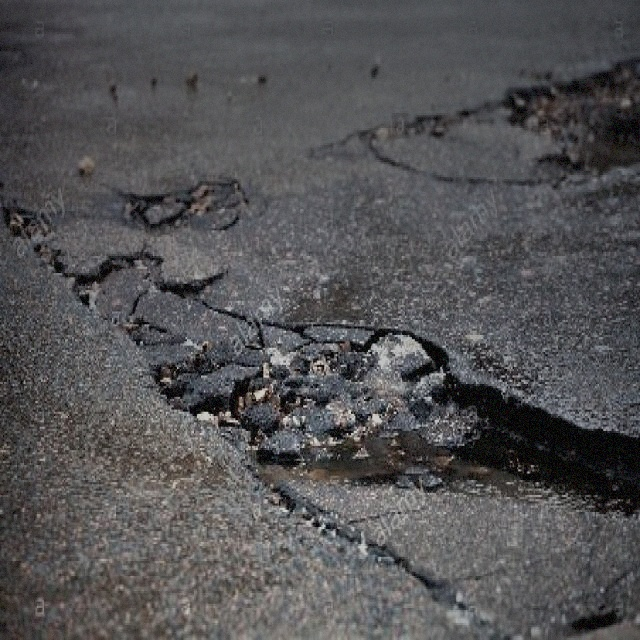pothole: (1, 194, 638, 632), (496, 54, 638, 182), (118, 172, 249, 235)
